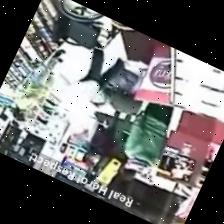person: (60, 47, 123, 139), (121, 102, 172, 179), (12, 49, 64, 120), (84, 110, 130, 165)
